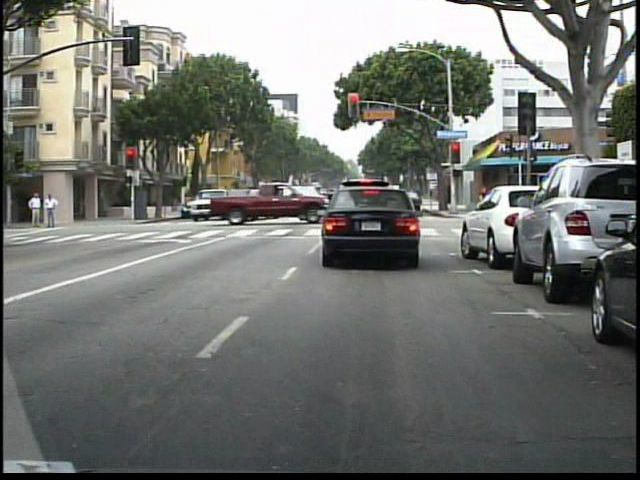person: (40, 191, 58, 231), (24, 189, 41, 230)
